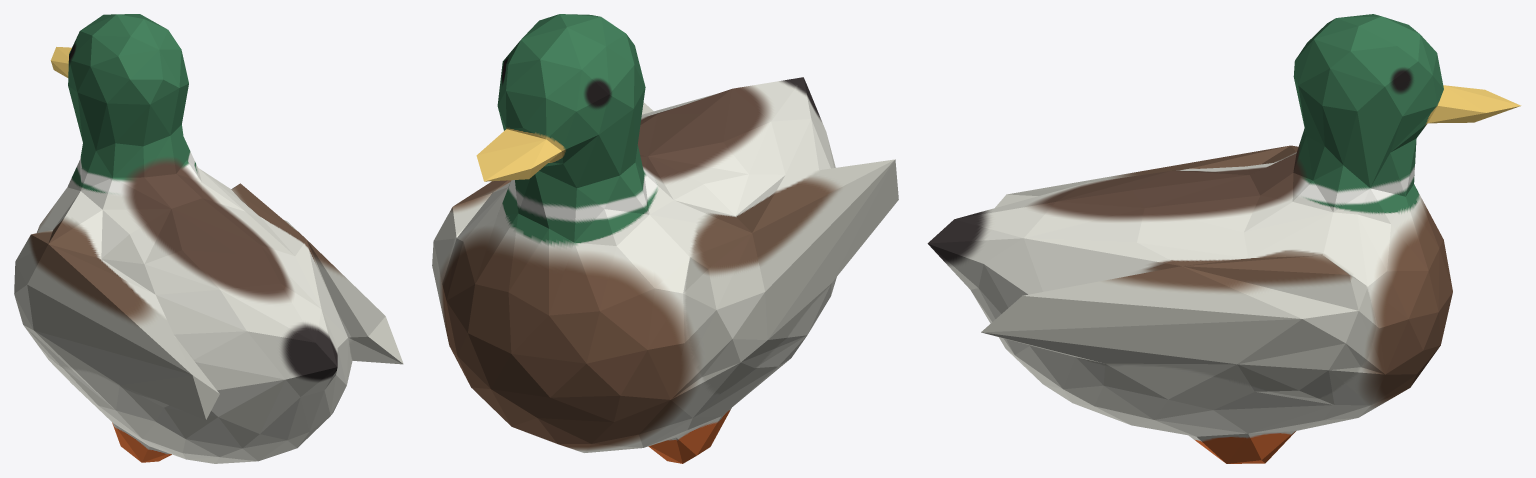
Rendered from animal_duck_drake_blob.obj.
3 renders of one model, left to right at view 1: azimuth 30°, elevation 25°; view 2: azimuth 150°, elevation 25°; view 3: azimuth 270°, elevation 25°, orthographic. The views are drawn at different scales.
Visible parts, largest first — view 1: animal_duck_drake_blob; view 2: animal_duck_drake_blob; view 3: animal_duck_drake_blob.
Part boxes in pixels (box(x1,y1,x2,y2)): animal_duck_drake_blob: box(14, 14, 403, 463); animal_duck_drake_blob: box(432, 14, 898, 463); animal_duck_drake_blob: box(927, 14, 1521, 463).
Bounding box in the file's own units: 0.3424 × 0.4903 × 0.623.
